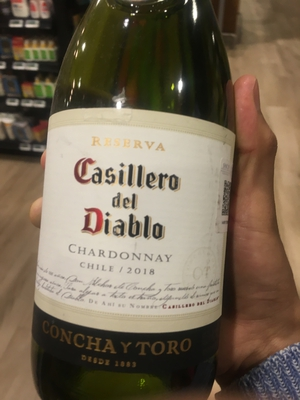casillero del diablo chardonnay: (32, 28, 235, 395)
